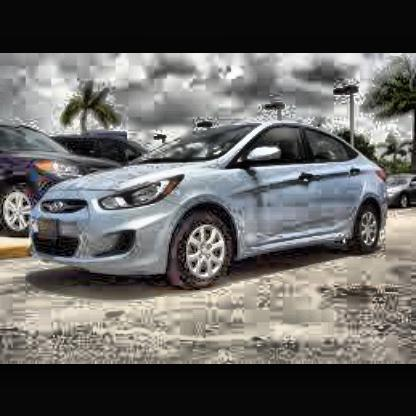Hyundai Accent Sedan 2012: (28, 117, 394, 298)
